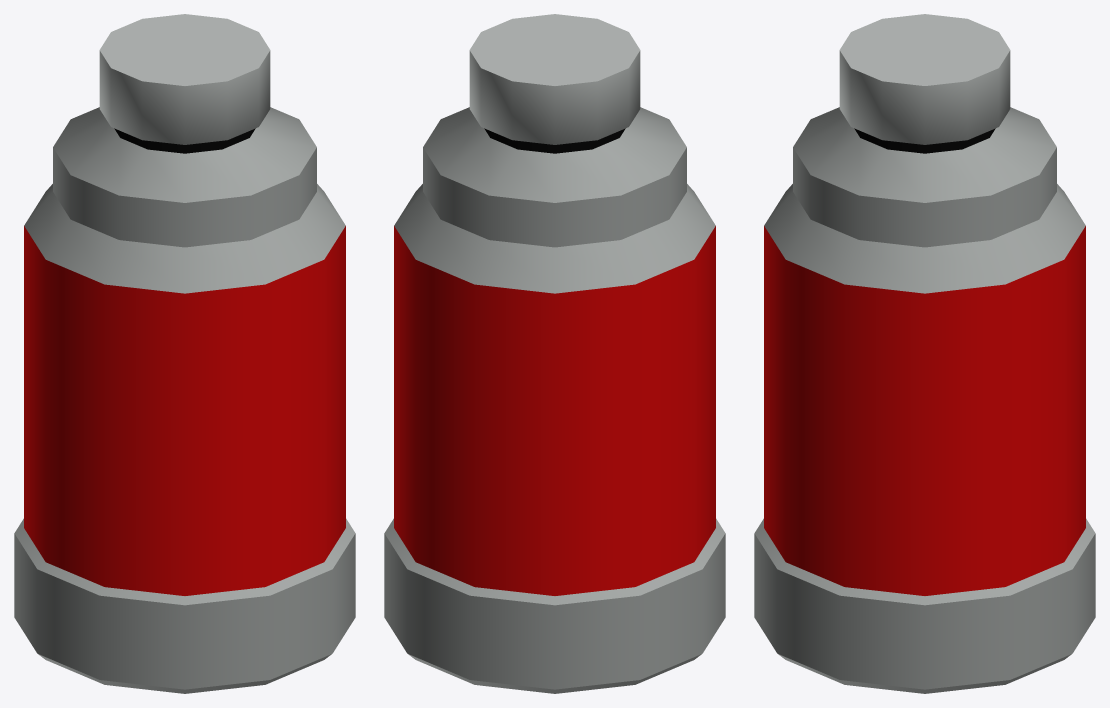
The picture shows the model from 3 angles, left to right: view 1: azimuth 30°, elevation 25°; view 2: azimuth 150°, elevation 25°; view 3: azimuth 270°, elevation 25°; orthographic projection.
Parts seen in each view (by area): view 1: G:\FFXIV-MapTools\exports\x6f2\bg\ex5\01_xkt_x6\fld\x6f2\bgp; view 2: G:\FFXIV-MapTools\exports\x6f2\bg\ex5\01_xkt_x6\fld\x6f2\bgp; view 3: G:\FFXIV-MapTools\exports\x6f2\bg\ex5\01_xkt_x6\fld\x6f2\bgp.
Boxes of the visible parts, x1=… form: G:\FFXIV-MapTools\exports\x6f2\bg\ex5\01_xkt_x6\fld\x6f2\bgp: x1=14, y1=14, x2=355, y2=693; G:\FFXIV-MapTools\exports\x6f2\bg\ex5\01_xkt_x6\fld\x6f2\bgp: x1=384, y1=14, x2=725, y2=693; G:\FFXIV-MapTools\exports\x6f2\bg\ex5\01_xkt_x6\fld\x6f2\bgp: x1=754, y1=14, x2=1095, y2=693.
Size of the model in its own units: 0.1833 by 0.3489 by 0.1833.
